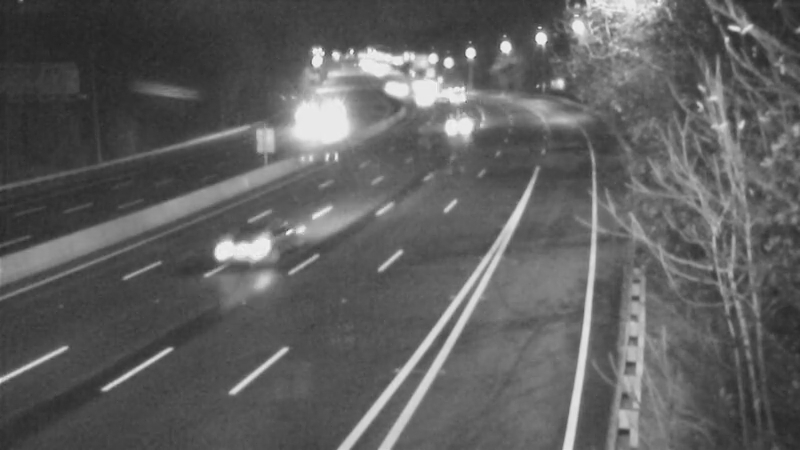vehicle: (208, 213, 288, 293), (376, 61, 426, 111), (433, 67, 483, 117), (396, 74, 446, 124), (436, 99, 486, 149)
